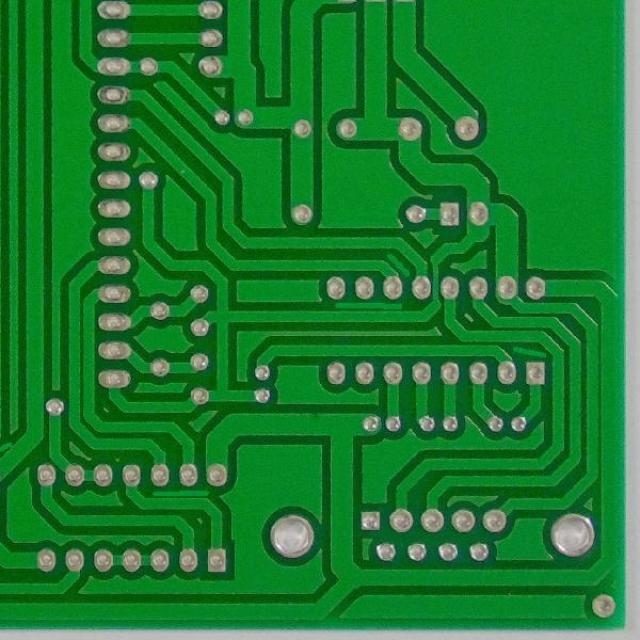spurious_copper: (147, 483, 220, 504), (330, 298, 408, 316), (383, 250, 413, 282), (510, 343, 553, 364)
